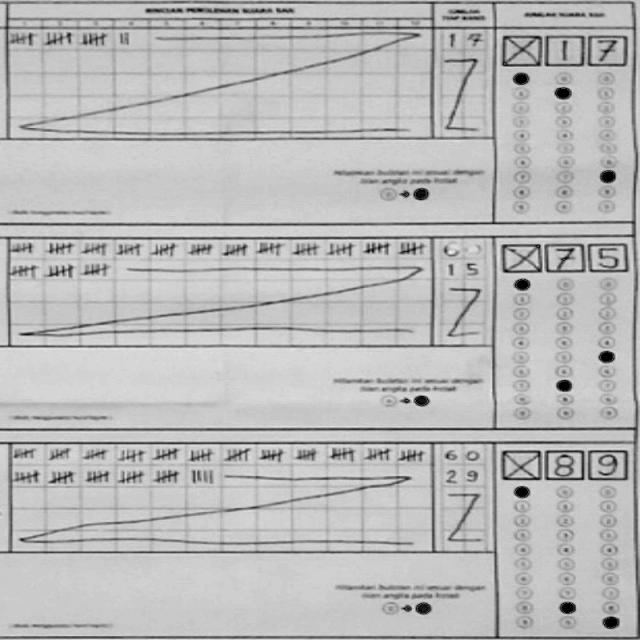Suara: (500, 26, 633, 70), (496, 443, 634, 482), (496, 236, 629, 274)
